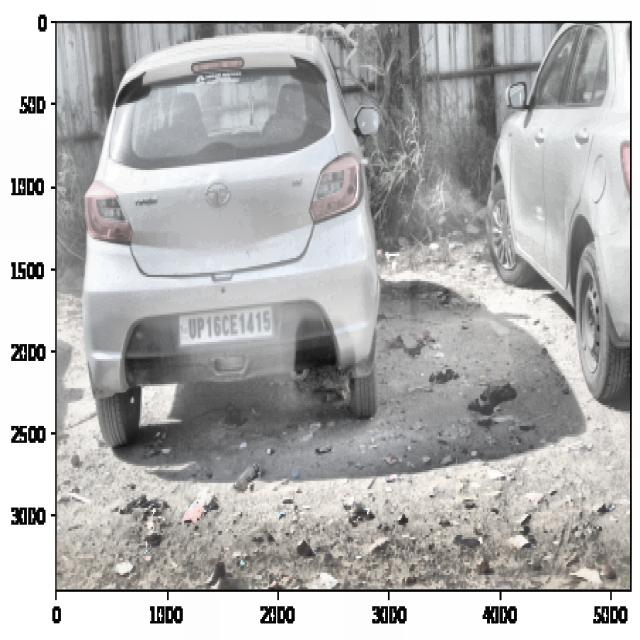license_plate: (184, 304, 273, 343)
